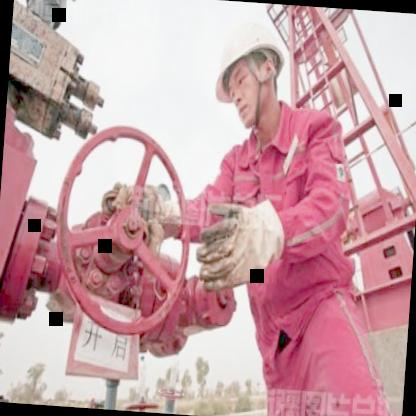helmet: (203, 0, 297, 142)
